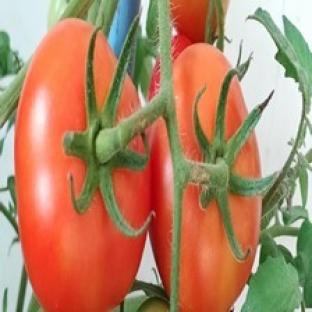Tomato: (16, 20, 146, 311), (179, 184, 261, 311), (148, 59, 160, 98), (137, 297, 169, 311)
